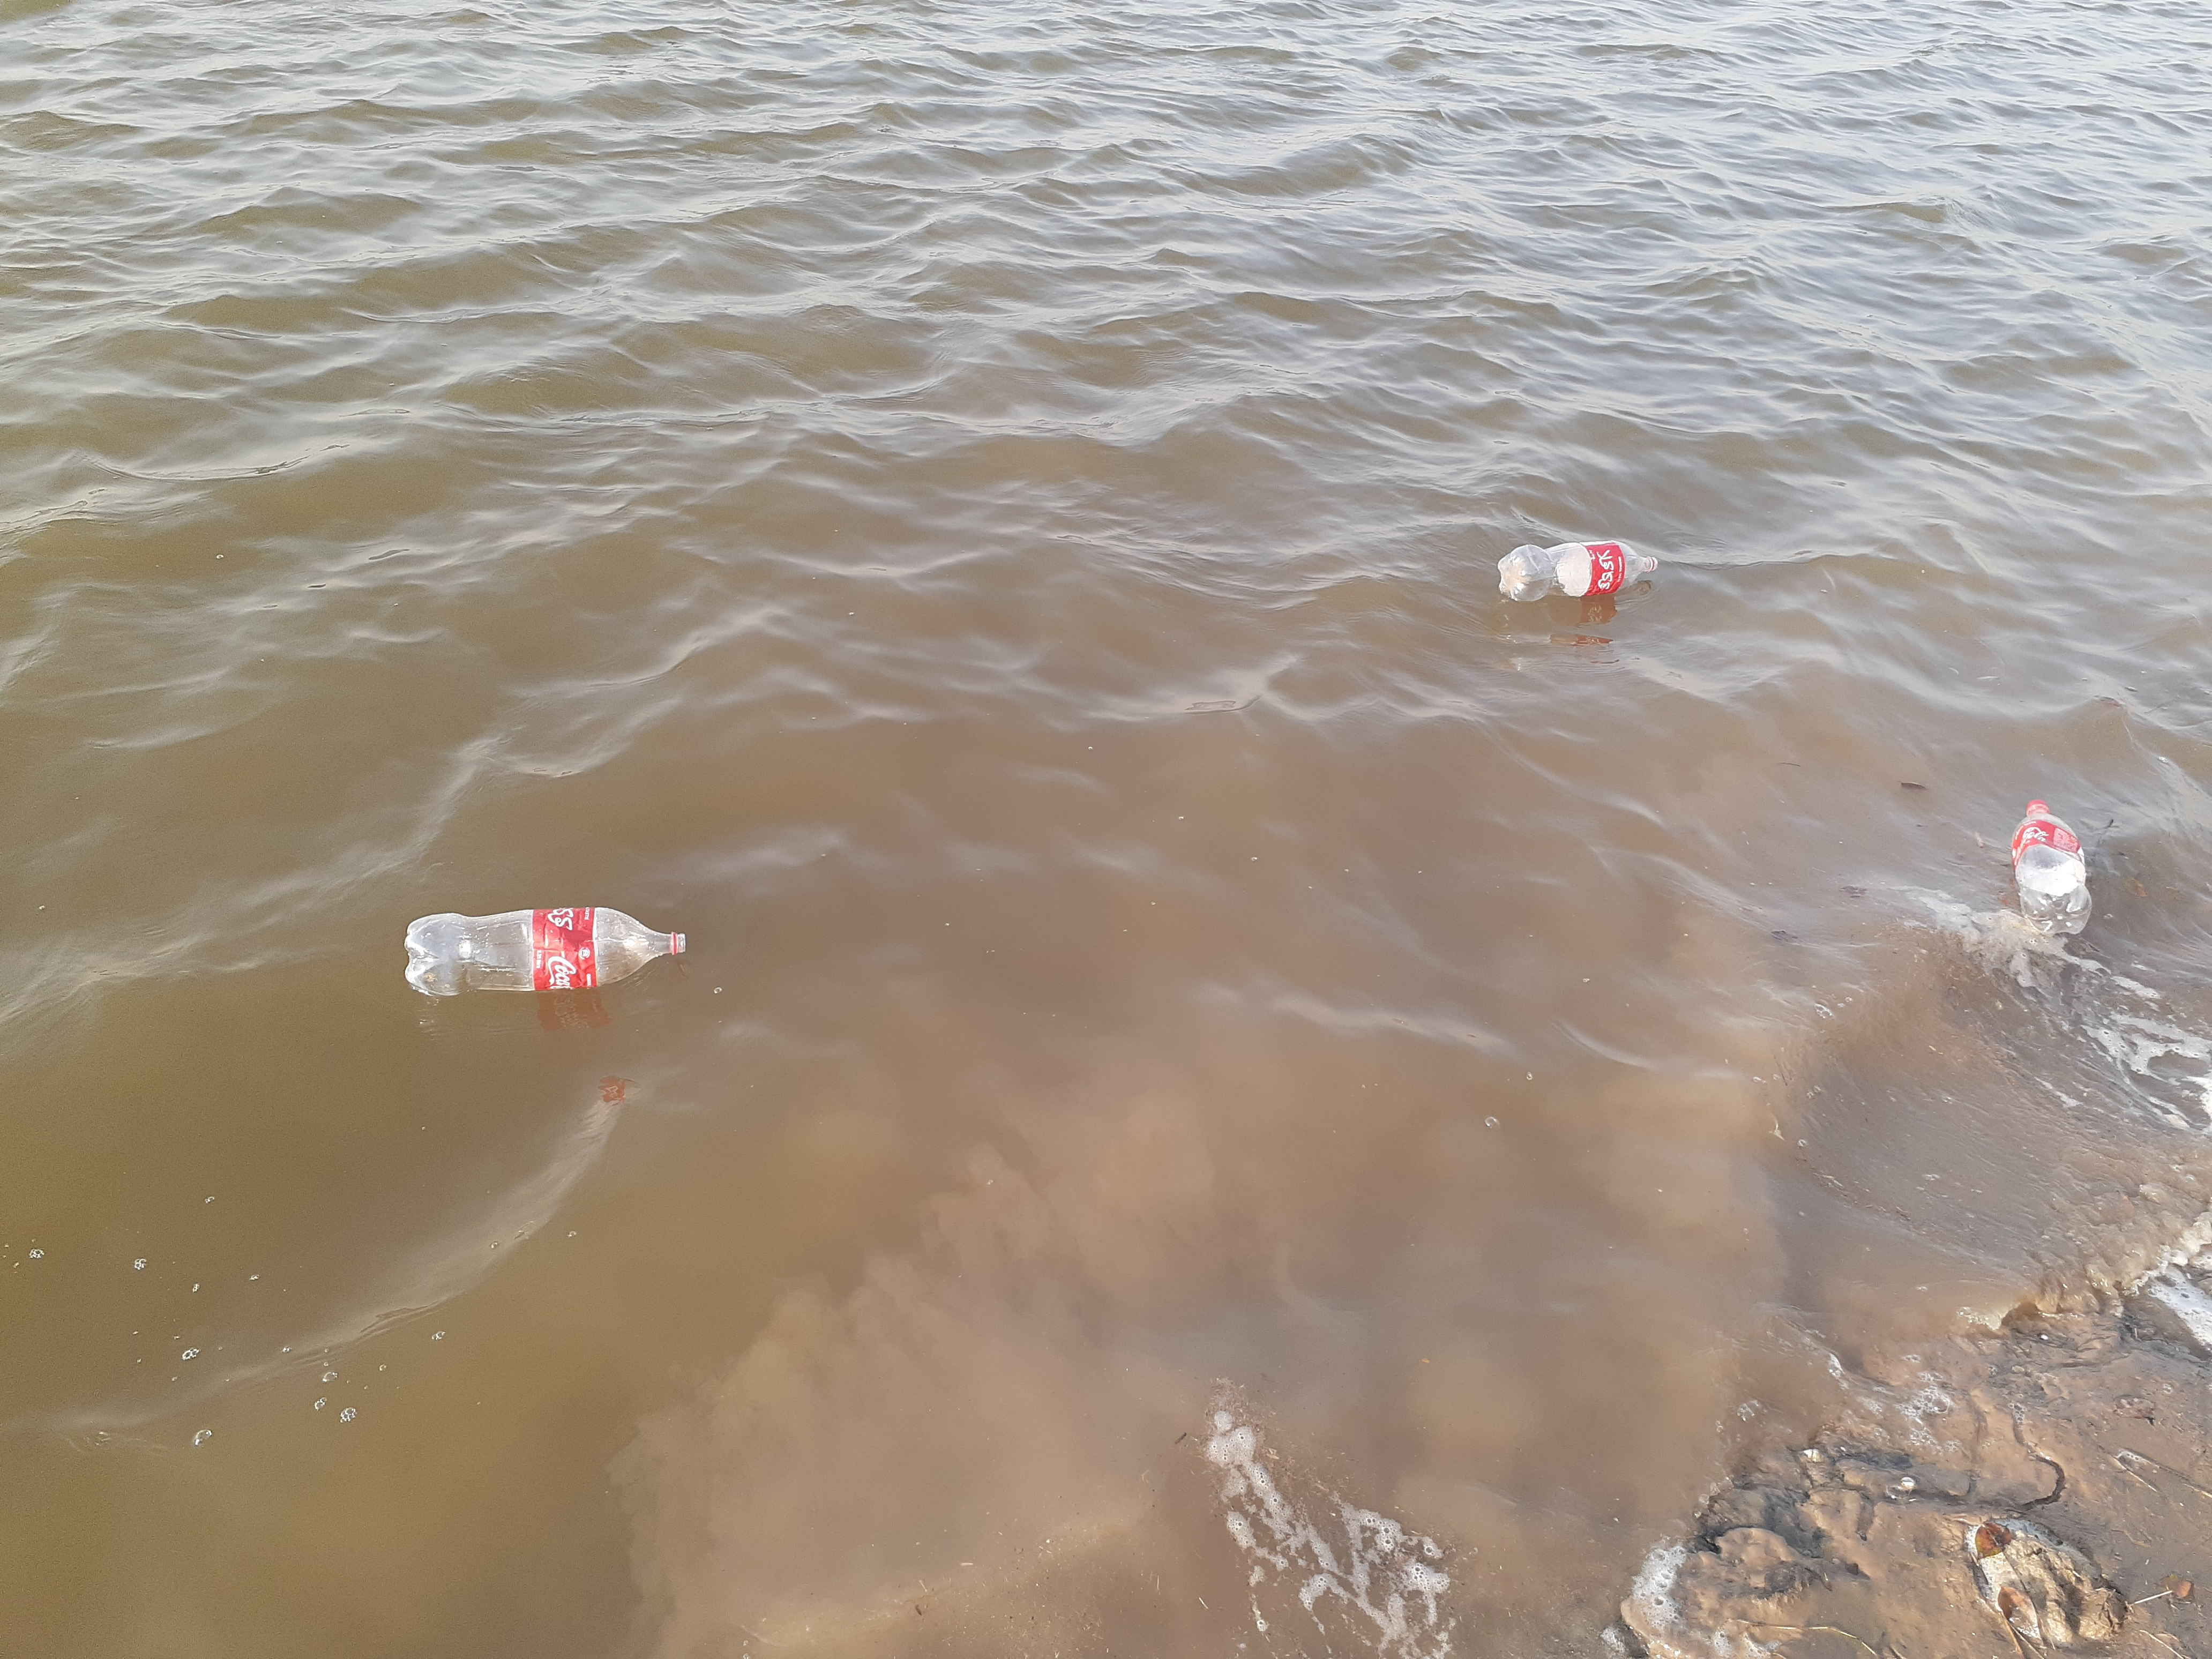Plastic Bottle: (404, 906, 686, 997), (2010, 798, 2092, 936), (1496, 540, 1658, 601)
